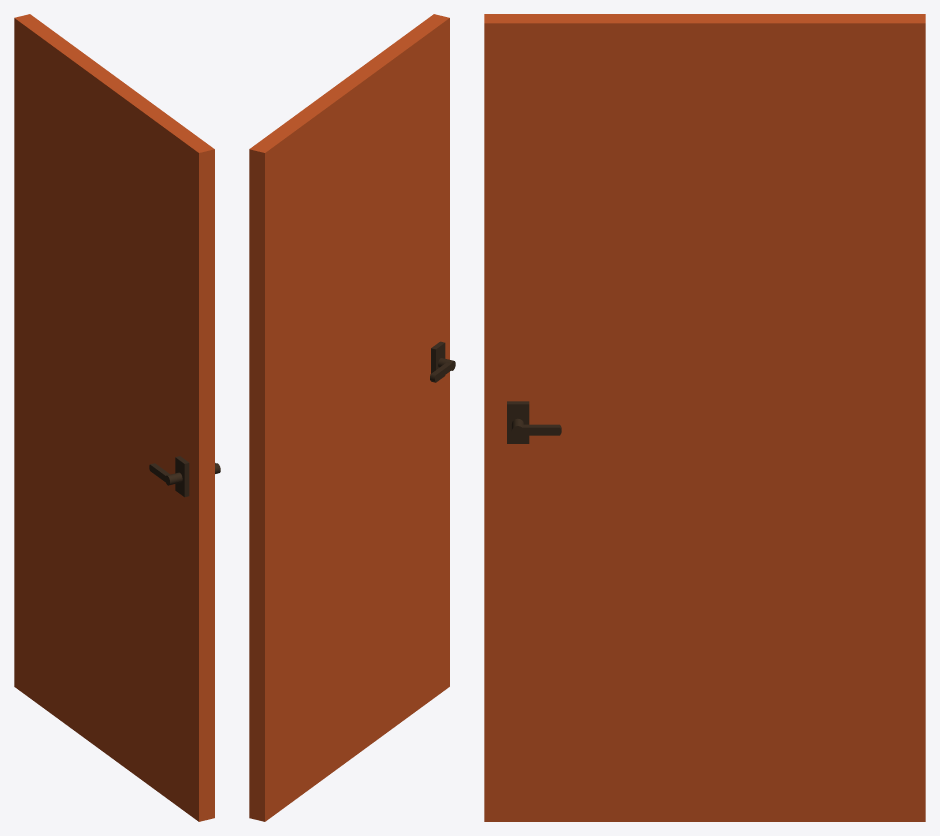
File: Door_NoAnim.FBX
3 renders of one model, left to right at view 1: azimuth 30°, elevation 25°; view 2: azimuth 150°, elevation 25°; view 3: azimuth 270°, elevation 25°, orthographic. The views are drawn at different scales.
Parts seen in each view (by area): view 1: Door, HandleBase, DoorHandle; view 2: Door; view 3: Door.
Part boxes in pixels (<box>): Door: <box>14,14,214,821</box>; HandleBase: <box>175,456,189,497</box>; DoorHandle: <box>149,463,220,485</box>; Door: <box>249,14,449,821</box>; Door: <box>484,14,925,821</box>.
Bounding box in the file's own units: 15.31 × 96.77 × 193.
